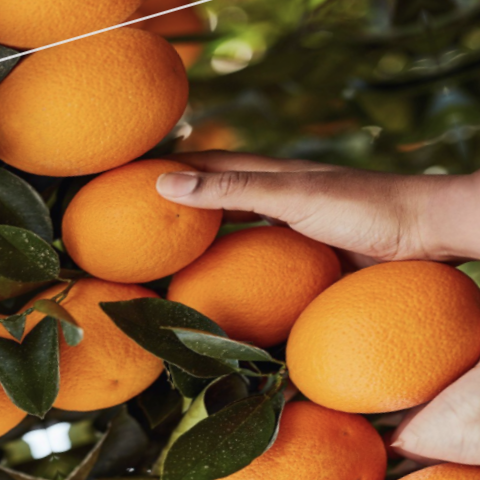orange: (258, 229, 480, 453), (0, 13, 215, 226), (25, 134, 245, 313)
